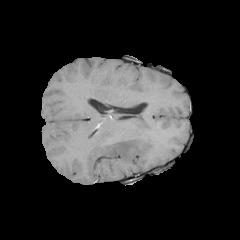glioma: (100, 114, 147, 164)
